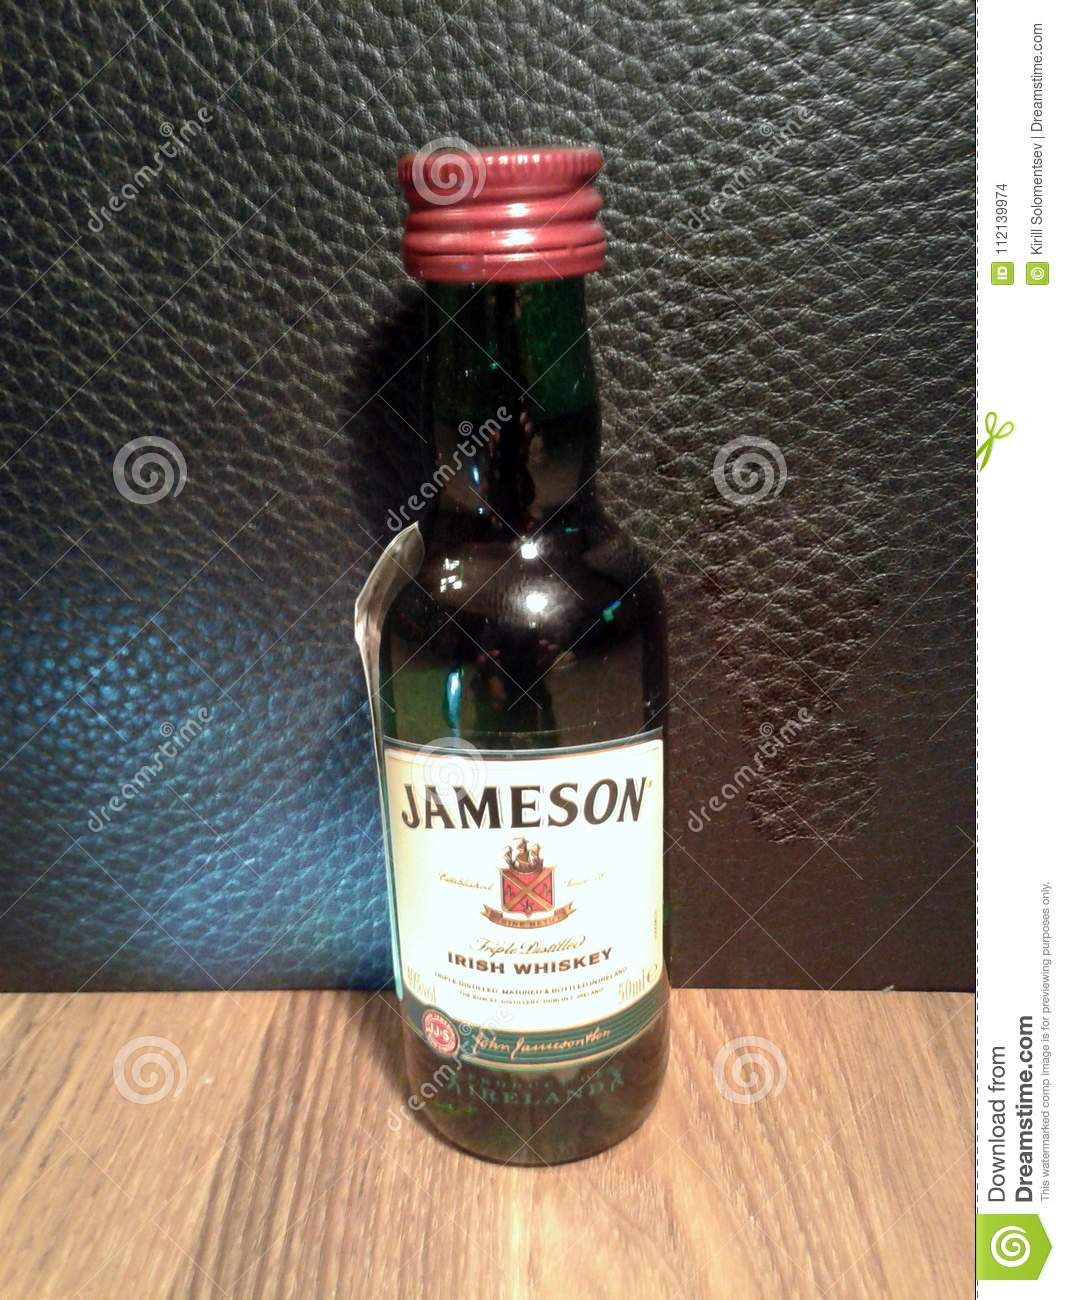Jameson: (336, 138, 693, 1175)
